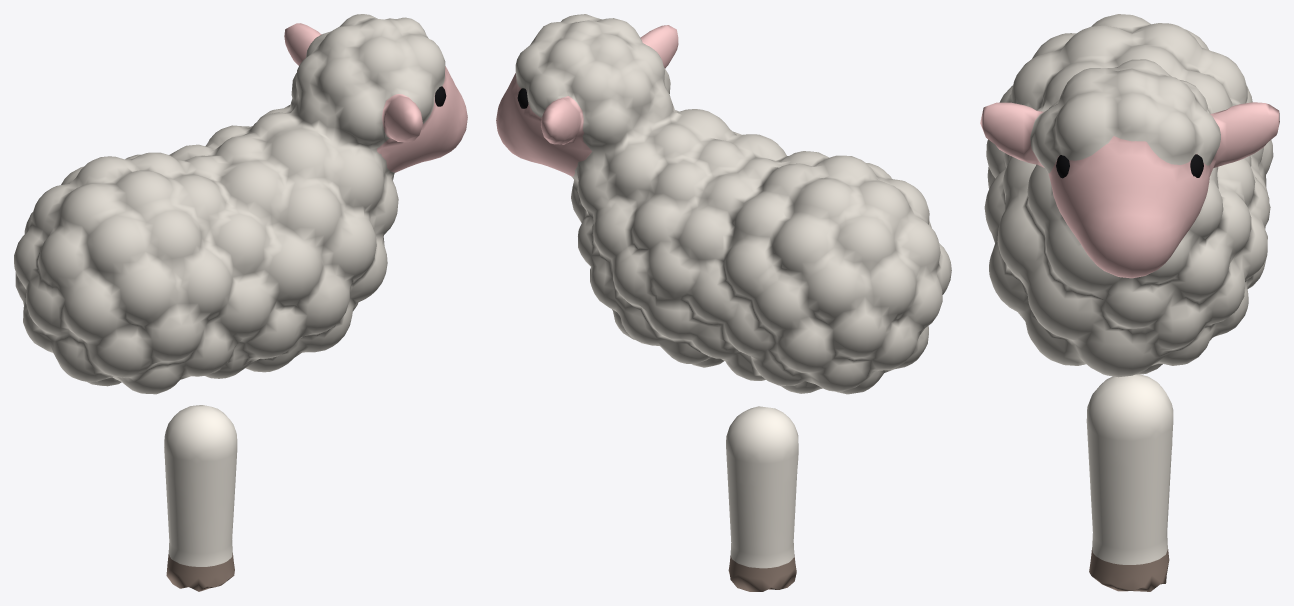
File: sheep_adult.glb
3 renders of one model, left to right at view 1: azimuth 30°, elevation 25°; view 2: azimuth 150°, elevation 25°; view 3: azimuth 270°, elevation 25°, orthographic. The views are drawn at different scales.
Visible parts, largest first — view 1: body, leg; view 2: body, leg; view 3: body, leg, eye.
Part boxes in pixels (x1=…): body: x1=14, y1=14, x2=467, y2=394; leg: x1=164, y1=405, x2=237, y2=591; body: x1=496, y1=14, x2=951, y2=394; leg: x1=726, y1=406, x2=798, y2=591; body: x1=980, y1=14, x2=1279, y2=377; leg: x1=1086, y1=374, x2=1173, y2=591; eye: x1=1056, y1=154, x2=1203, y2=178.
Size of the model in its own units: 2.31 by 2.62 by 1.16.
